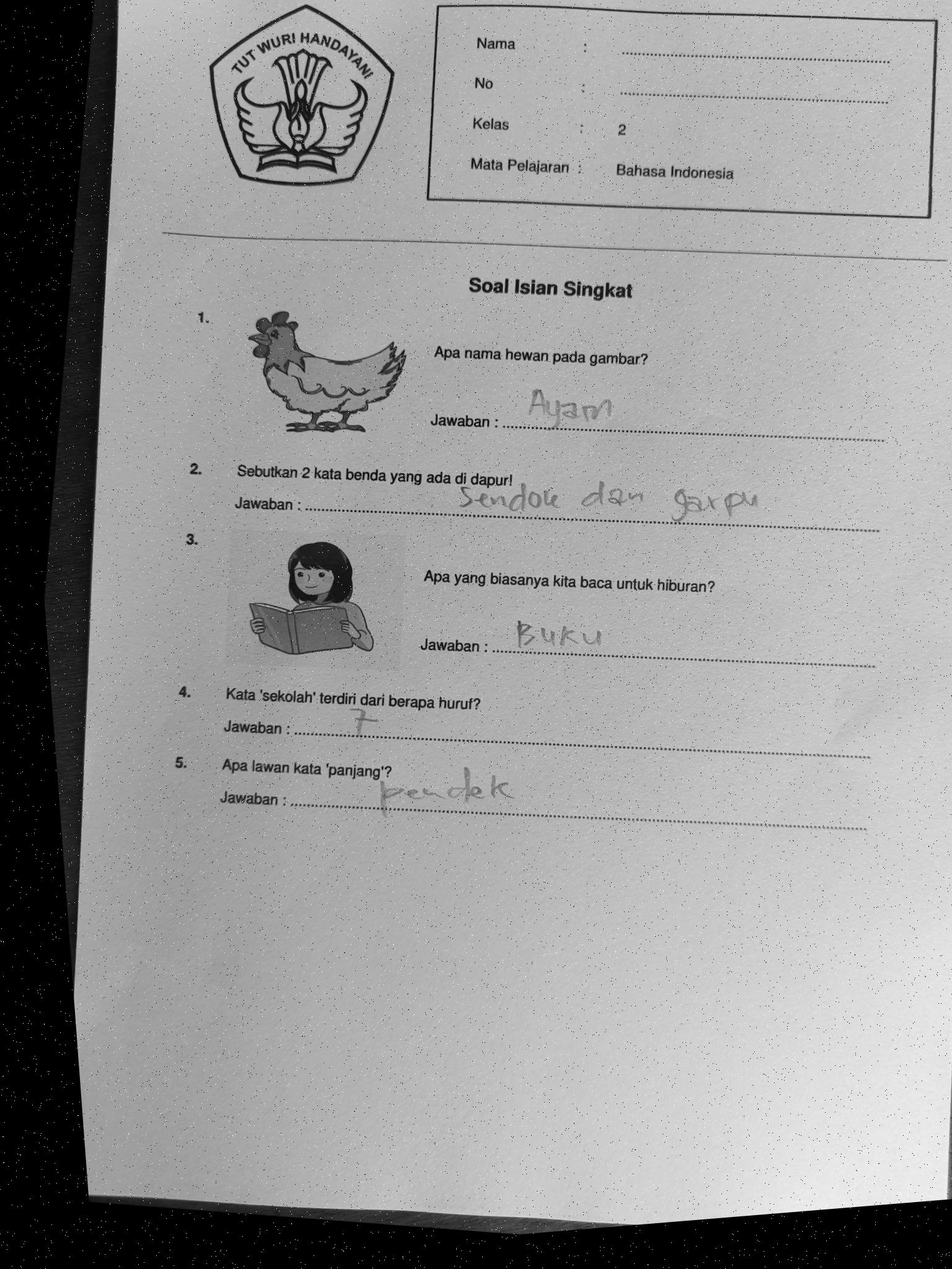soal-1: (184, 299, 918, 464)
soal-2: (174, 441, 913, 558)
soal-3: (169, 521, 914, 685)
soal-4: (165, 665, 898, 782)
soal-5: (160, 738, 895, 851)
